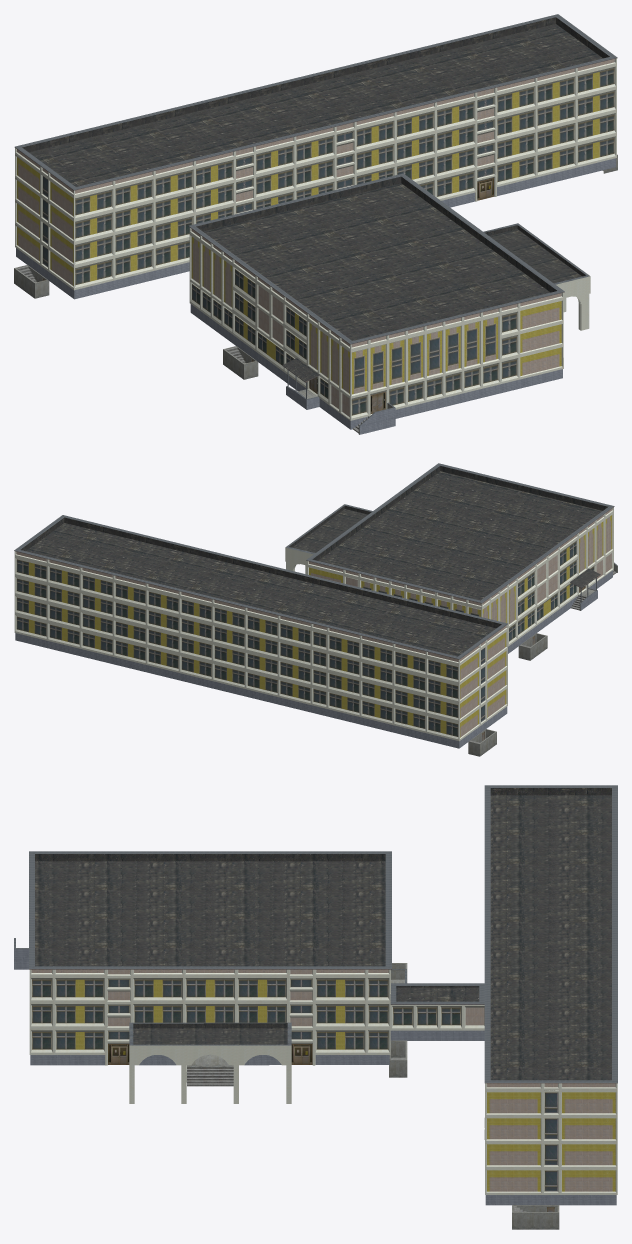
Rendered from prlSchool.glb.
3 renders of one model, top to bottom at view 1: azimuth 30°, elevation 25°; view 2: azimuth 150°, elevation 25°; view 3: azimuth 270°, elevation 25°, orthographic. The views are drawn at different scales.
Parts seen in each view (by area): view 1: sch_1195_vol2.13, sch_1195_vol1.11, sch_1195_vol1.1, sch_1195_vol1.0, sch_1195_vol2.1, sch_1195_vol2.0, sch_1195_vol1.2, sch_1195_vol2.9, sch_1195_vol1.10, sch_1195_vol2.10, sch_1195_vol2.11, sch_1195_vol2.12 (+11 smaller); view 2: sch_1195_vol2.13, sch_1195_vol1.11, sch_1195_vol1.0, sch_1195_vol1.1, sch_1195_vol1.2, sch_1195_vol1.9, sch_1195_vol2.1, sch_1195_vol1.10, sch_1195_vol2.12, sch_1195_vol1.4, sch_1195_vol2.10, sch_1195_vol2.3 (+8 smaller); view 3: sch_1195_vol2.13, sch_1195_vol1.11, sch_1195_vol2.1, sch_1195_vol2.0, sch_1195_vol1.4, sch_1195_vol1.10, sch_1195_vol1.1, sch_1195_vol2.12, sch_1195_vol2.11, sch_1195_vol1.9, sch_1195_vol2.2, sch_1195_vol2.16 (+8 smaller).
Boxes of the visible parts, box(x1,y1,x2,y2) form: sch_1195_vol2.13: box(196, 176, 585, 381); sch_1195_vol1.11: box(22, 17, 609, 186); sch_1195_vol1.1: box(15, 58, 616, 290); sch_1195_vol1.0: box(75, 68, 614, 285); sch_1195_vol2.1: box(189, 227, 590, 420); sch_1195_vol2.0: box(192, 269, 516, 415); sch_1195_vol1.2: box(90, 72, 599, 281); sch_1195_vol2.9: box(350, 314, 500, 397); sch_1195_vol1.10: box(15, 14, 617, 189); sch_1195_vol2.10: box(189, 234, 350, 397); sch_1195_vol2.11: box(190, 304, 562, 434); sch_1195_vol2.12: box(189, 173, 589, 426); sch_1195_vol2.13: box(289, 466, 608, 600); sch_1195_vol1.11: box(20, 517, 501, 656); sch_1195_vol1.0: box(16, 559, 458, 736); sch_1195_vol1.1: box(14, 551, 507, 741); sch_1195_vol1.2: box(29, 562, 446, 733); sch_1195_vol1.9: box(15, 633, 507, 748); sch_1195_vol2.1: box(285, 507, 613, 646); sch_1195_vol1.10: box(14, 515, 507, 659); sch_1195_vol2.12: box(285, 463, 617, 603); sch_1195_vol1.4: box(460, 632, 506, 737); sch_1195_vol2.10: box(482, 512, 613, 627); sch_1195_vol2.3: box(309, 509, 612, 605); sch_1195_vol2.13: box(35, 854, 385, 1044); sch_1195_vol1.11: box(396, 788, 611, 1080); sch_1195_vol2.1: box(29, 969, 463, 1103); sch_1195_vol2.0: box(32, 979, 460, 1049); sch_1195_vol1.4: box(487, 1092, 615, 1191); sch_1195_vol1.10: box(391, 785, 617, 1082); sch_1195_vol1.1: box(463, 1005, 617, 1194); sch_1195_vol2.12: box(14, 851, 406, 1045); sch_1195_vol2.11: box(14, 949, 389, 1065); sch_1195_vol1.9: box(390, 1030, 616, 1205); sch_1195_vol2.2: box(75, 979, 344, 1049); sch_1195_vol2.16: box(16, 948, 407, 1077).
Bounding box in the file's own units: 76.83 × 16.1 × 62.96.
19 materials, 19 textured.
